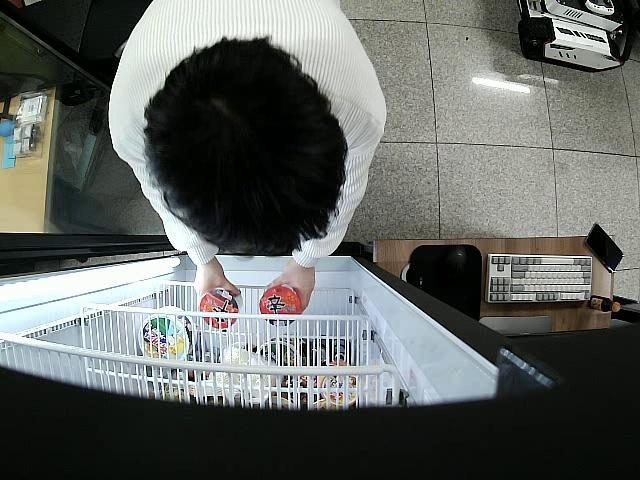02_shinRamen_S: (198, 288, 242, 328), (260, 284, 301, 326)
